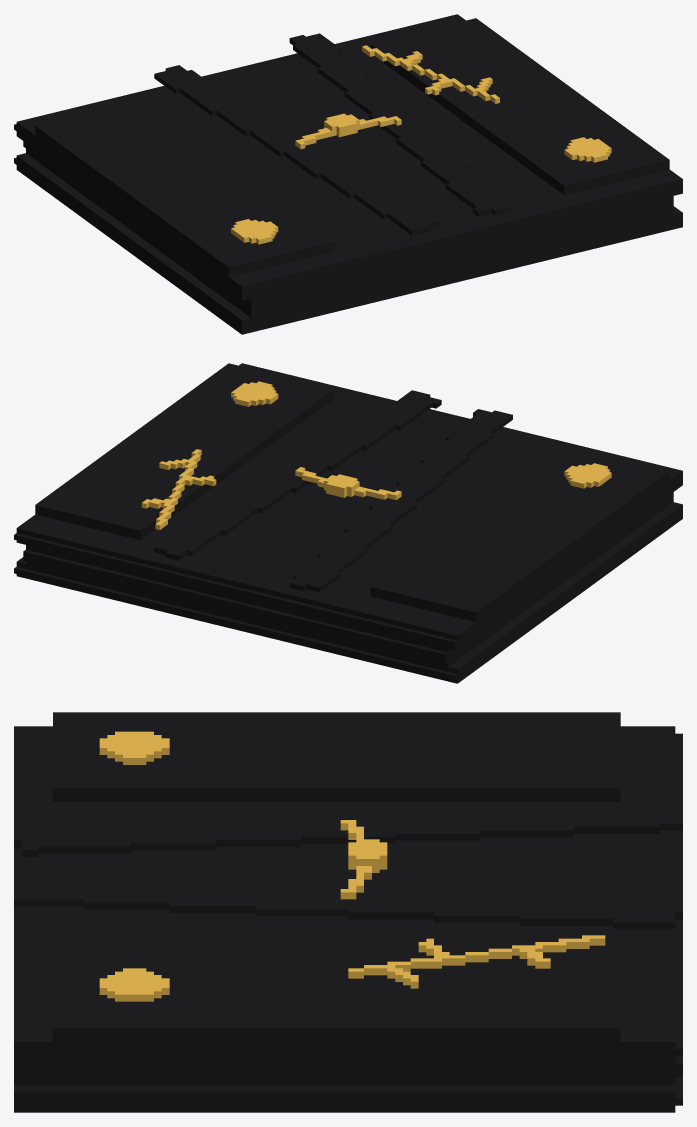
The model's file is haori.glb.
The picture shows the model from 3 angles, top to bottom: view 1: azimuth 30°, elevation 25°; view 2: azimuth 150°, elevation 25°; view 3: azimuth 270°, elevation 25°; orthographic projection. The views are drawn at different scales.
Visible parts, largest first — view 1: haori:compound; view 2: haori:compound; view 3: haori:compound.
Boxes of the visible parts, x1,y1,x2,y2 form: haori:compound: (14,14,682,334); haori:compound: (14,363,682,683); haori:compound: (14,712,682,1112).
Bounding box in the file's own units: 0.384 × 0.06 × 0.344.
